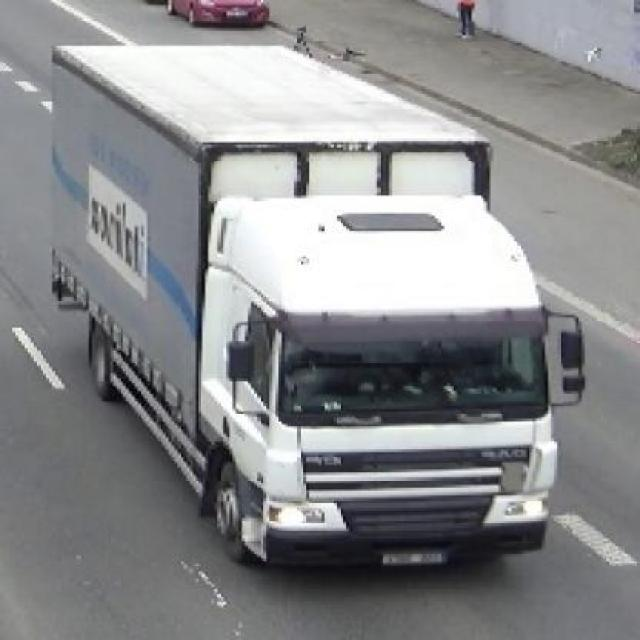truck: (47, 37, 587, 574)
